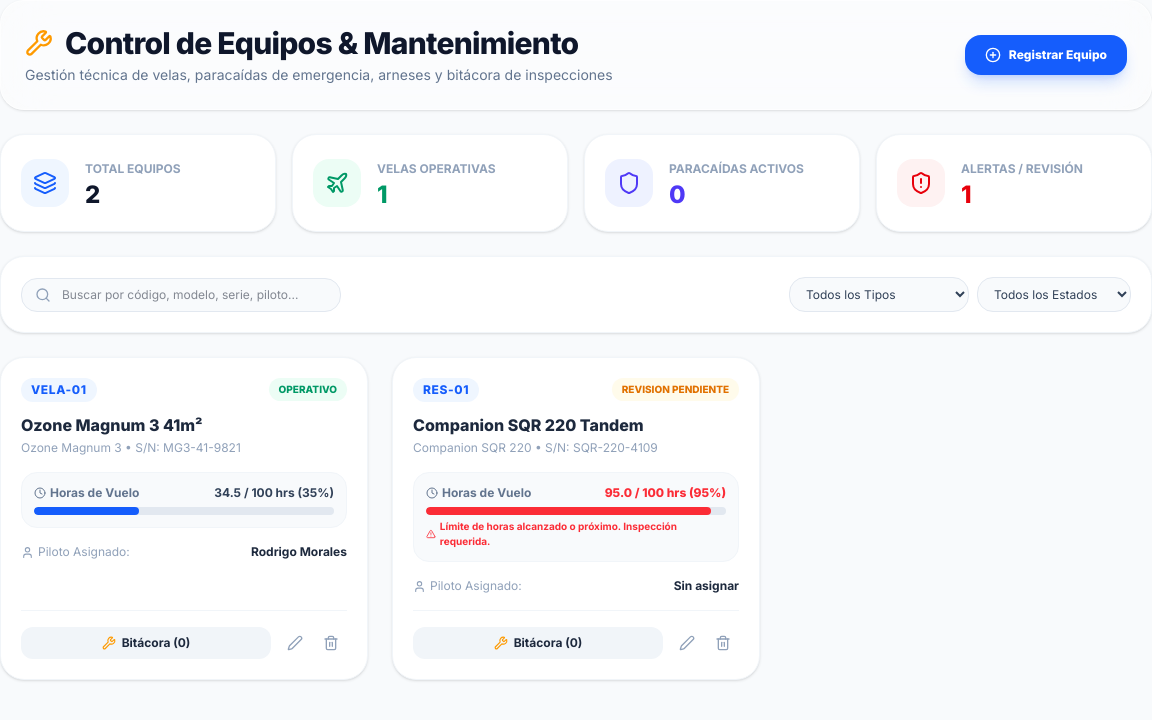
Test: Página de Equipos (/equipos) - Pruebas Unitarias y de Componente › 2. Debe filtrar equipos cuando se ingresa un término en la búsqueda
Type "Ozone" into the field with placeholder "Buscar por código, modelo, serie, piloto...".
click(181, 294); type("Ozone")  # box x1=21 y1=278 x2=341 y2=312
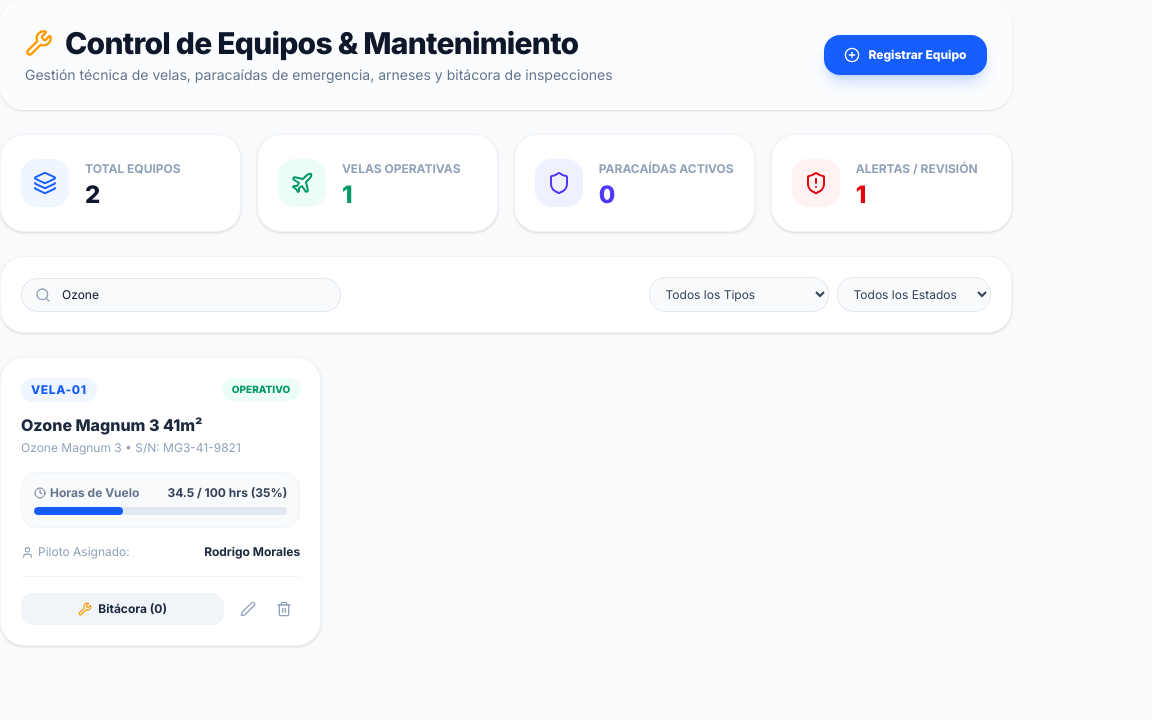
Check: the heading "Ozone Magnum 3 41m²" is shown, box x1=21 y1=415 x2=203 y2=435
Check: the heading "Companion SQR 220 Tandem" is gone
